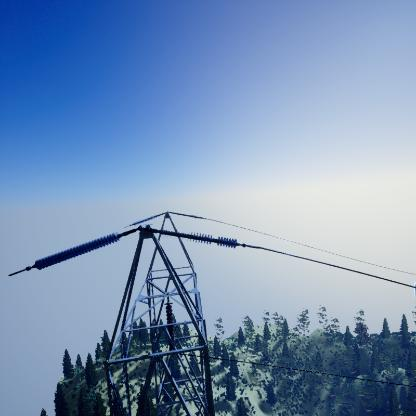insulator: (35, 232, 121, 270), (146, 226, 239, 249)
